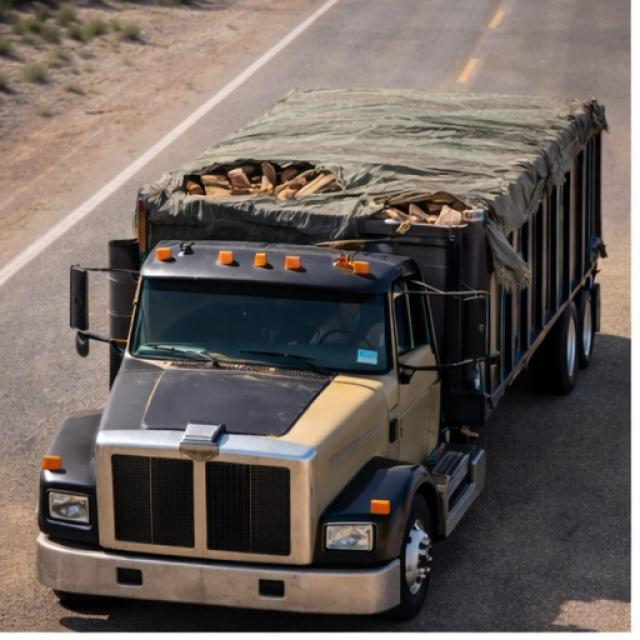Box: (135, 83, 598, 226)
Truck: (28, 48, 621, 601)
